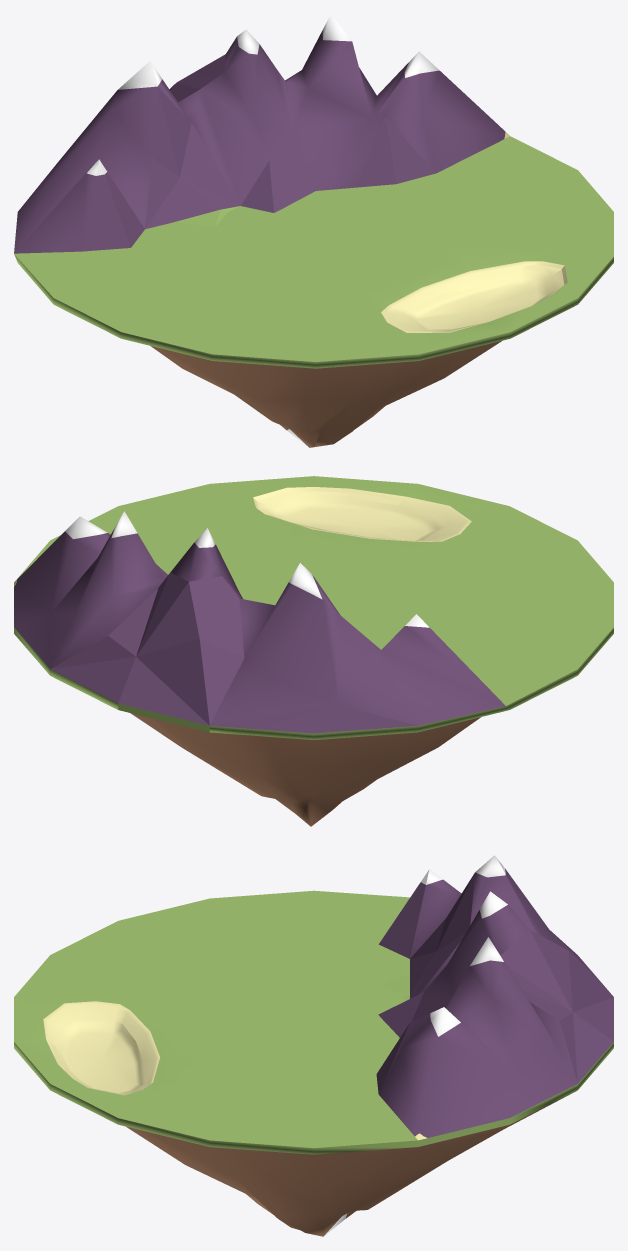
Rendered from brook_island.fbx.
3 views of the same model, one above another, from view 1: azimuth 30°, elevation 25°; view 2: azimuth 150°, elevation 25°; view 3: azimuth 270°, elevation 25° (orthographic).
Visible parts, largest first — view 1: polySurface5; view 2: polySurface5; view 3: polySurface5.
Part boxes in pixels (bbox=[...]): polySurface5: bbox=[14, 14, 613, 447]; polySurface5: bbox=[14, 476, 613, 826]; polySurface5: bbox=[14, 855, 613, 1236].
Bounding box in the file's own units: 25 × 16.08 × 24.62.
